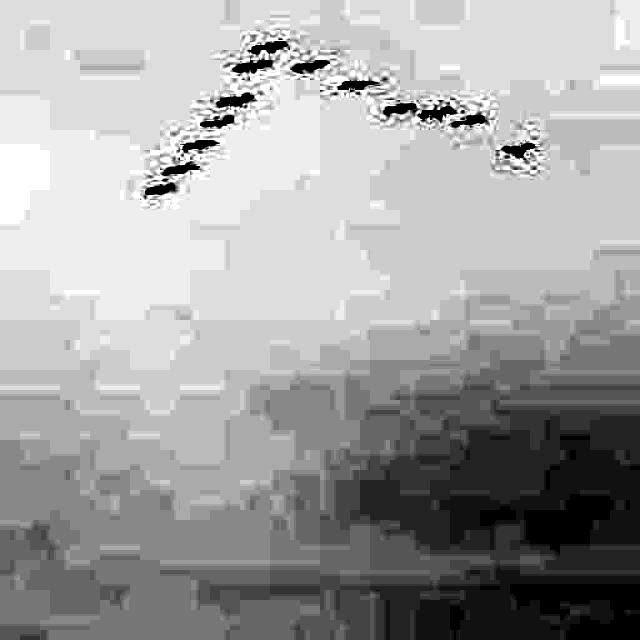airplane: (339, 79, 379, 91), (218, 96, 258, 108), (199, 116, 239, 128), (292, 60, 330, 72), (250, 42, 288, 54), (502, 142, 534, 155), (452, 116, 486, 128), (184, 140, 218, 152), (235, 64, 272, 74), (384, 104, 418, 114), (420, 109, 454, 119), (165, 164, 199, 174), (144, 186, 176, 196)
